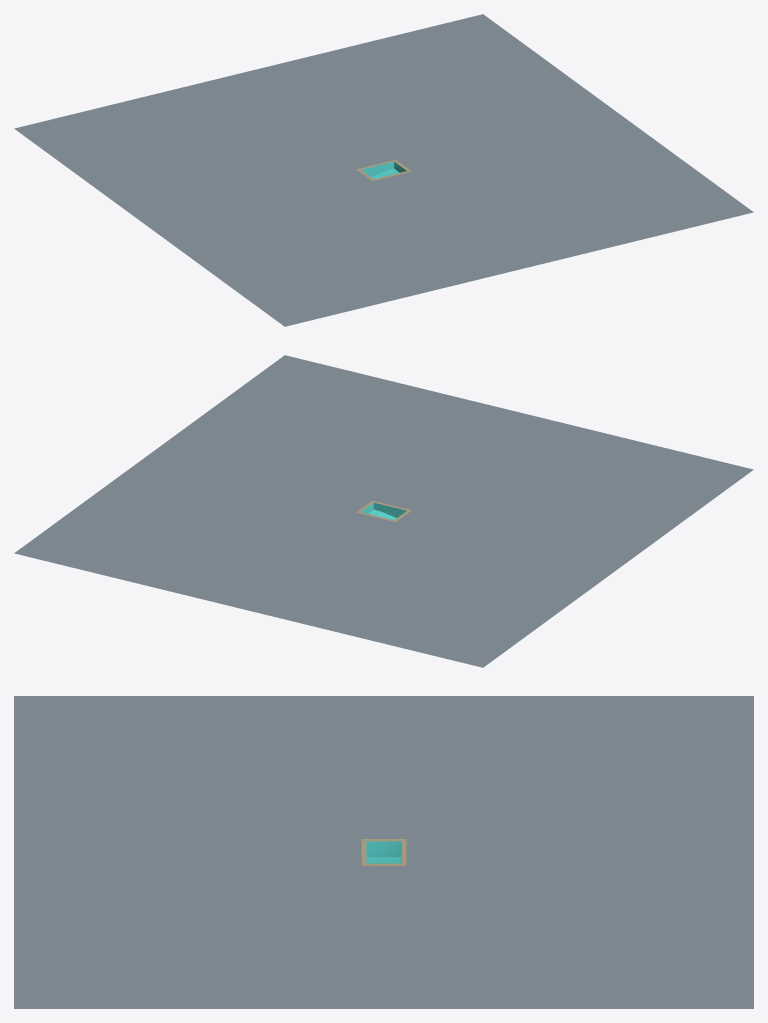
File: Pool.glb
3 views of the same model, one above another, from view 1: azimuth 30°, elevation 25°; view 2: azimuth 150°, elevation 25°; view 3: azimuth 270°, elevation 25° (orthographic). The views are drawn at different scales.
Visible parts, largest first — view 1: pileta; view 2: pileta; view 3: pileta.
Part boxes in pixels (box(x1,y1,x2,y2)): pileta: box(14, 14, 753, 326); pileta: box(14, 355, 753, 667); pileta: box(14, 696, 753, 1008).
Bounding box in the file's own units: 84.68 × 2 × 84.68.
9 materials, 3 textured.
